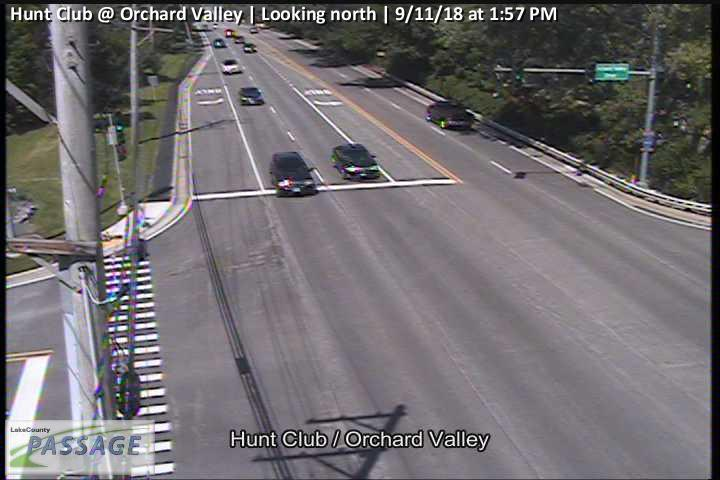SUV: (270, 151, 315, 197)
Sedan: (332, 143, 379, 181), (426, 99, 474, 130), (238, 87, 264, 106), (220, 59, 240, 74)
